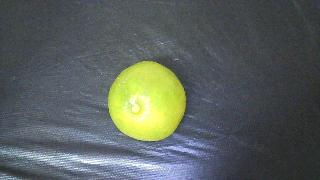LOCAL: (108, 61, 186, 141)
